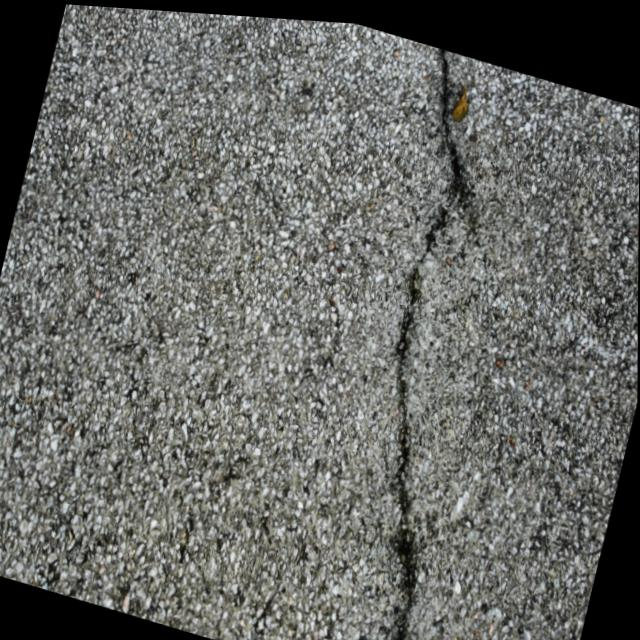Crack: (269, 37, 542, 640)
